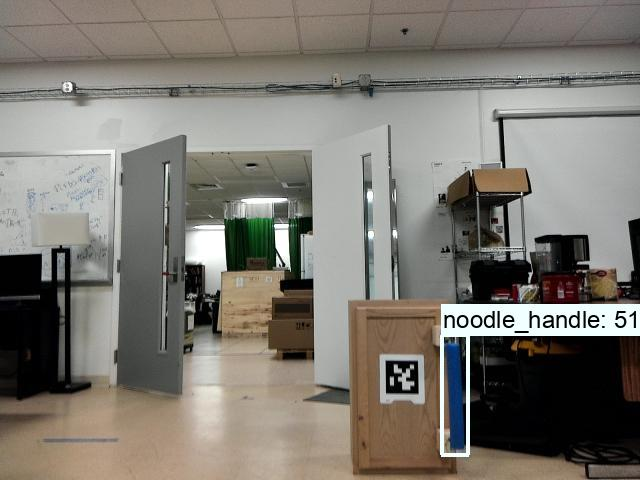noodle_handle: (443, 337, 466, 452)
